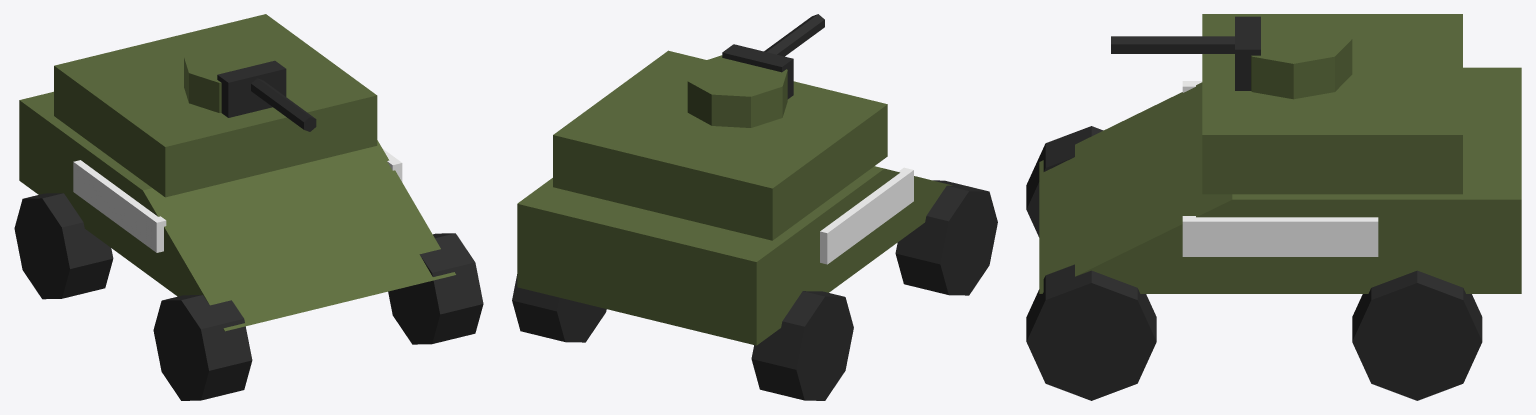
File: ua-kozak-scout.glb
3 views of the same model, side by side, from view 1: azimuth 30°, elevation 25°; view 2: azimuth 150°, elevation 25°; view 3: azimuth 270°, elevation 25° (orthographic). The views are drawn at different scales.
Parts seen in each view (by area): view 1: ua-kozak-scout, turret; view 2: ua-kozak-scout, turret; view 3: ua-kozak-scout, turret.
Boxes of the visible parts, x1=… form: ua-kozak-scout: x1=14, y1=14, x2=483, y2=400; turret: x1=184, y1=42, x2=316, y2=131; ua-kozak-scout: x1=512, y1=50, x2=997, y2=400; turret: x1=687, y1=14, x2=824, y2=127; ua-kozak-scout: x1=1026, y1=14, x2=1521, y2=400; turret: x1=1111, y1=14, x2=1352, y2=99.
Size of the model in its own units: 0.57 by 0.49 by 0.76.
